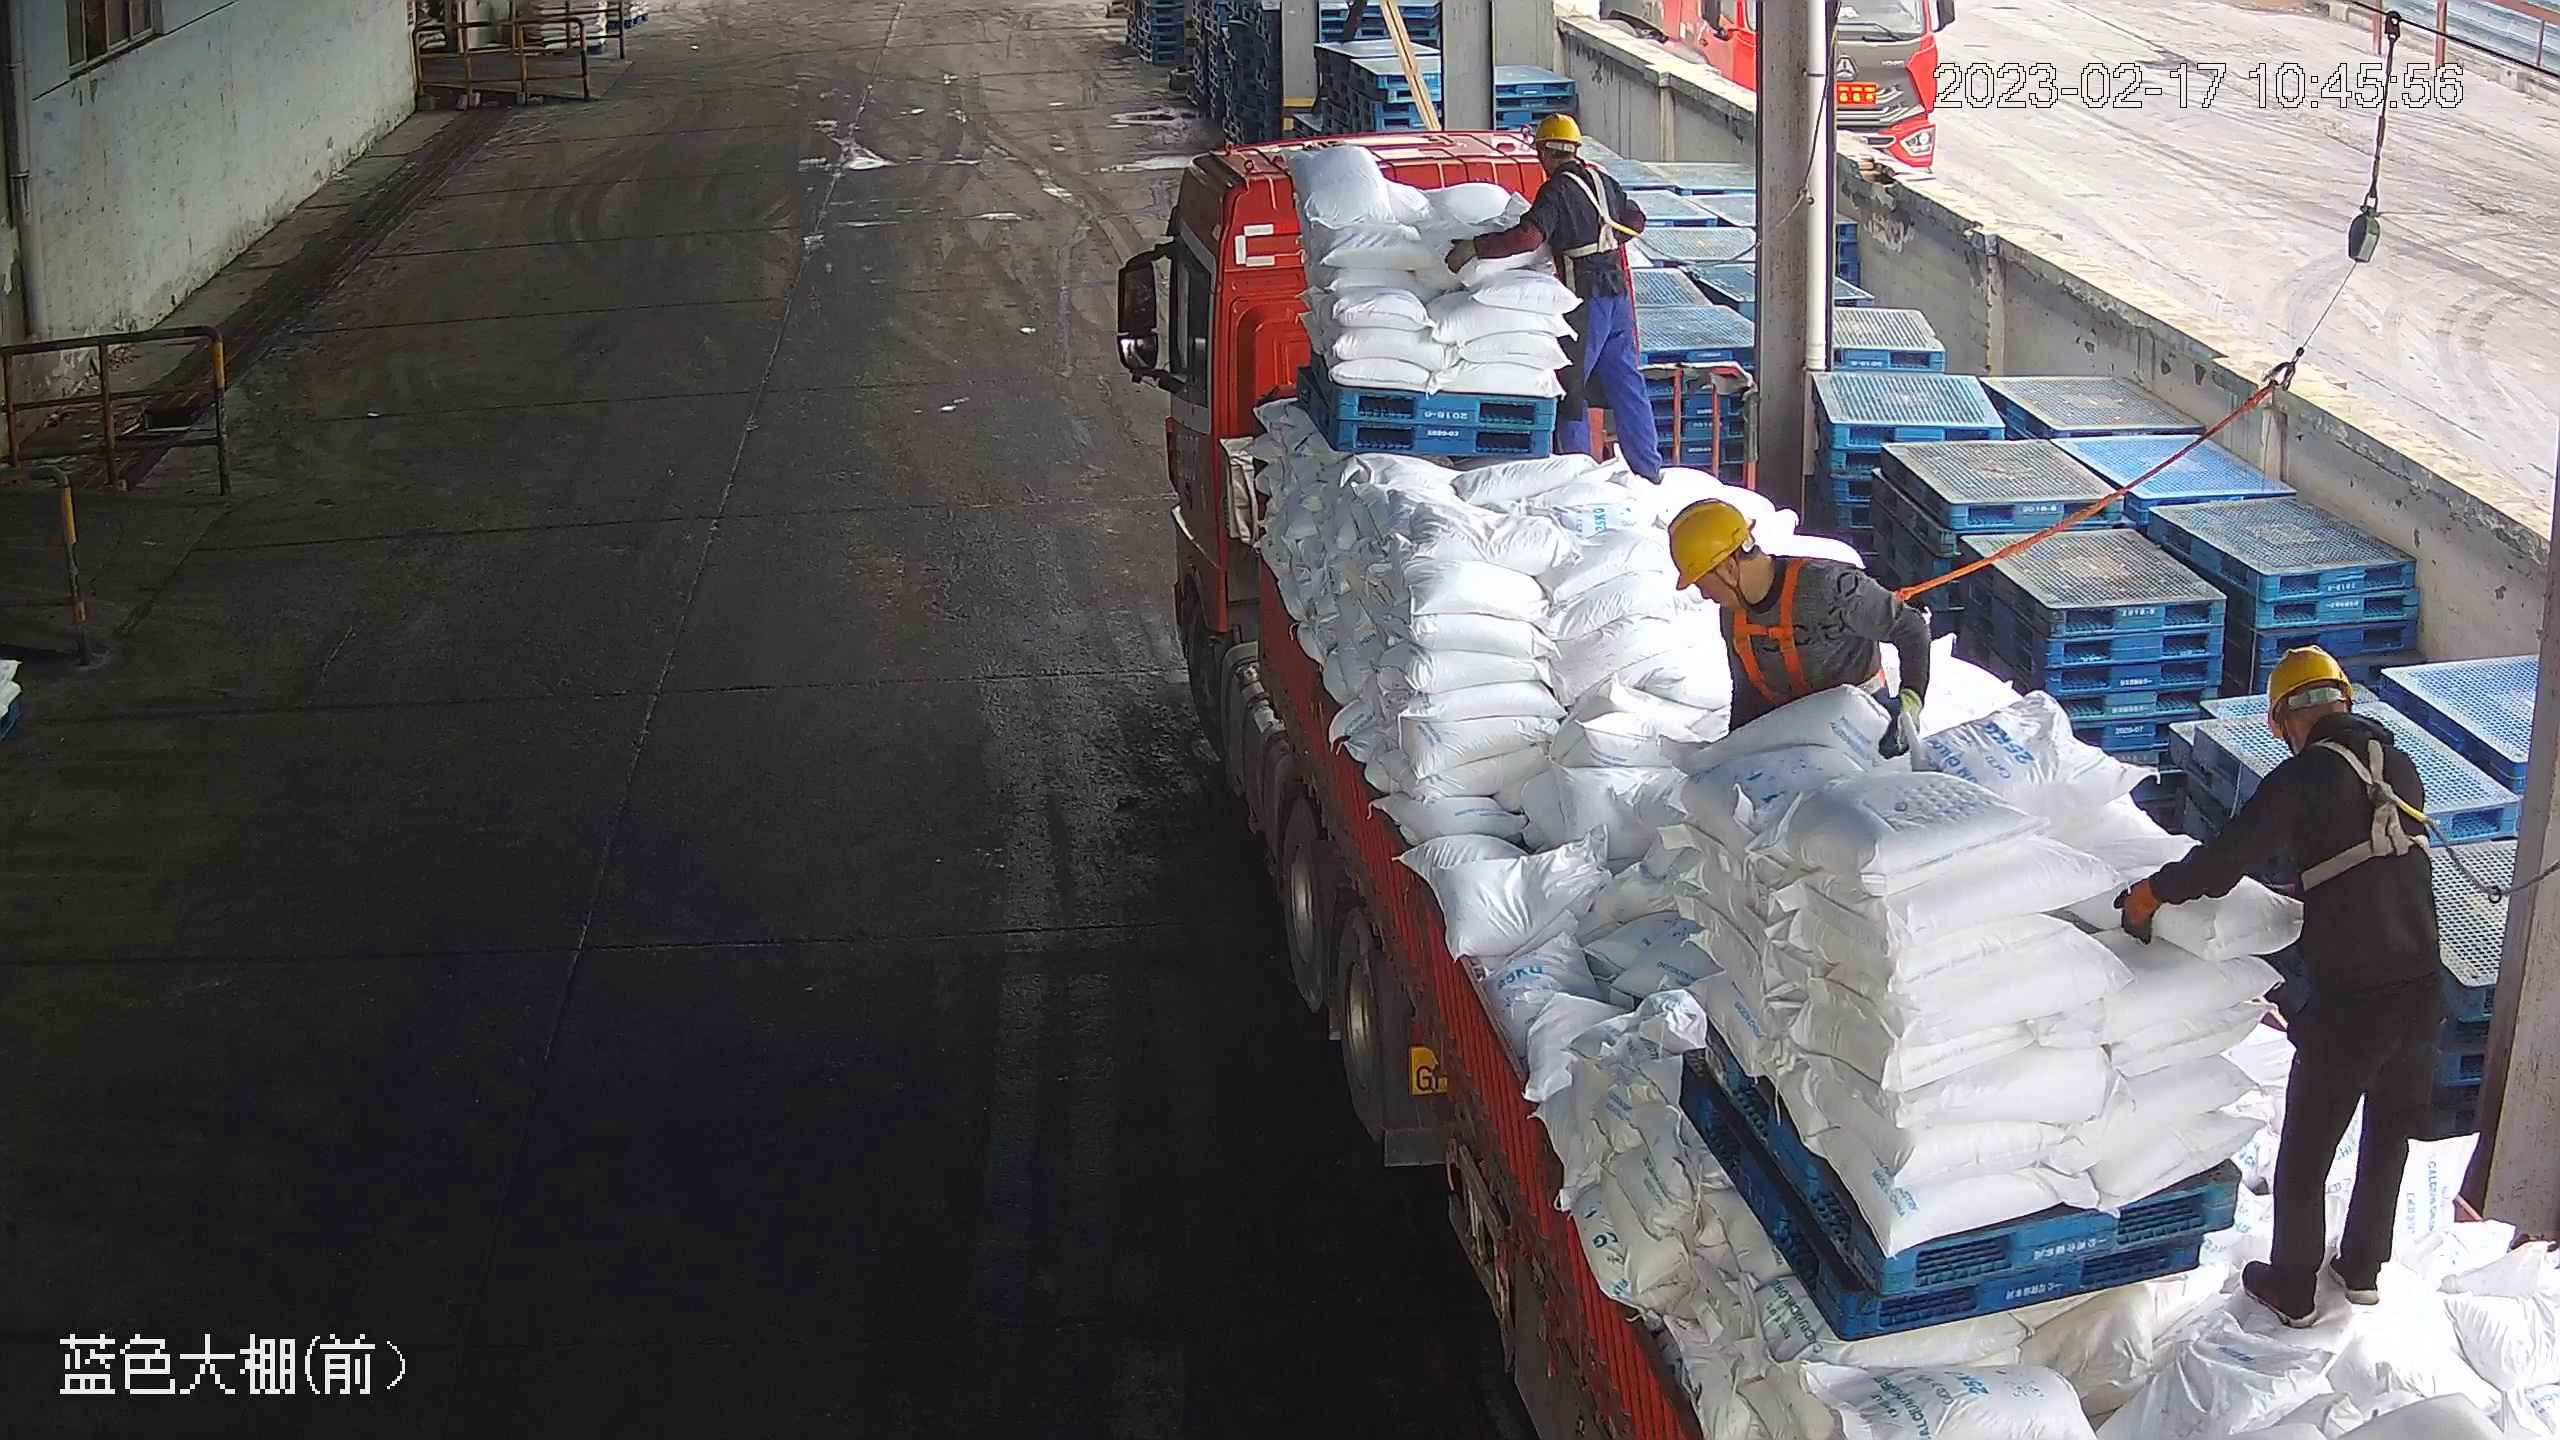belt: (2294, 740, 2435, 896), (1725, 551, 1852, 693), (1559, 172, 1644, 261)
head: (2203, 651, 2422, 861), (1667, 498, 1891, 669), (1513, 114, 1628, 230)
helmet: (2263, 645, 2357, 733), (1668, 496, 1757, 591), (1533, 112, 1584, 150)
people: (2114, 646, 2448, 1336), (1446, 114, 1670, 484)
truck: (1108, 123, 2560, 1440)
